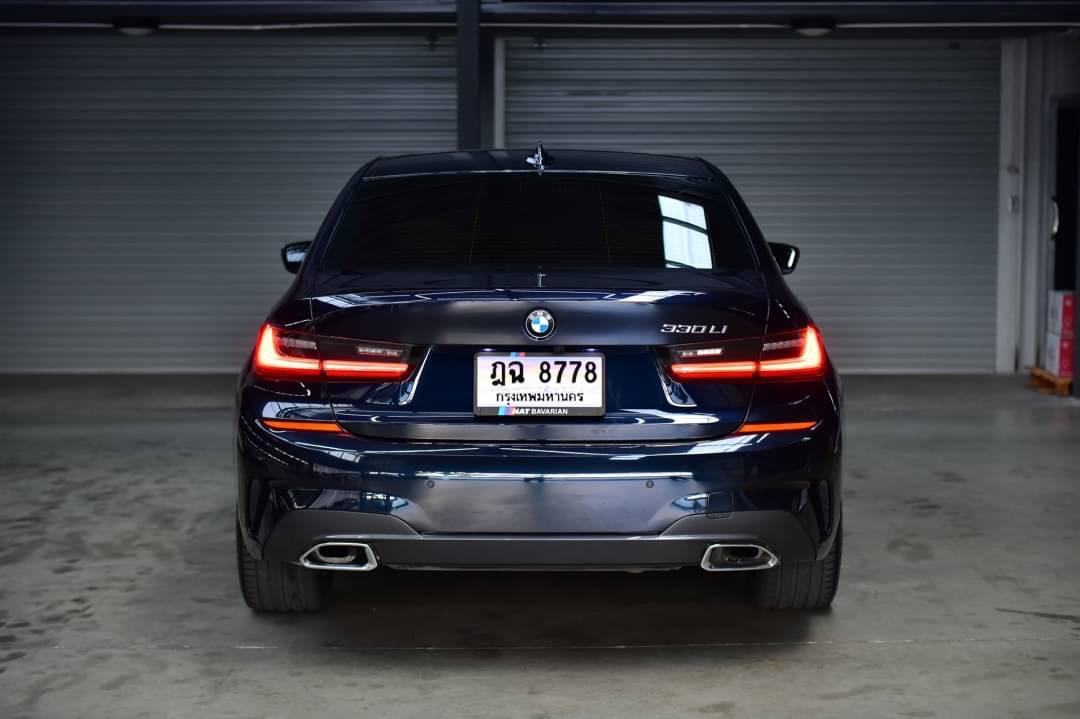license-plate: (475, 350, 606, 420)
